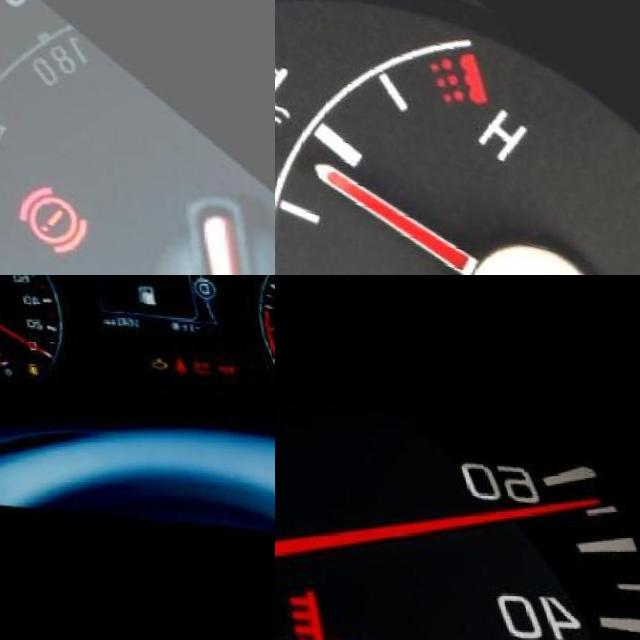Engine cooling system: (275, 563, 398, 640), (275, 39, 320, 136)
Seat Belt: (160, 360, 175, 377)
